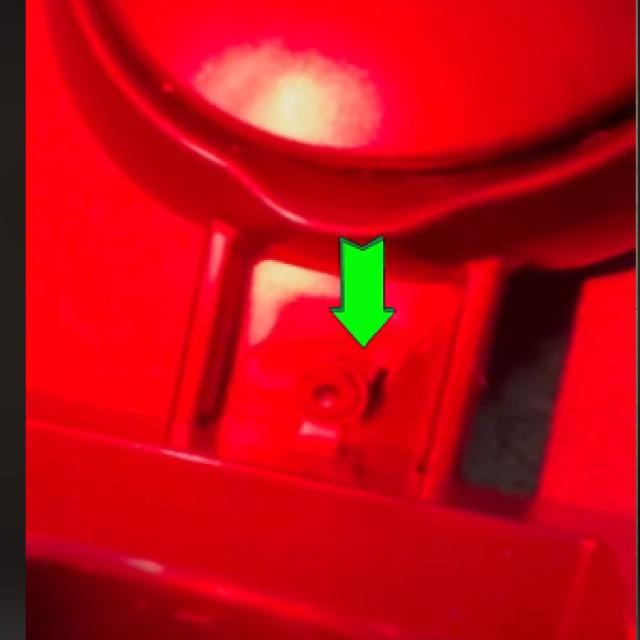hidden camera: (311, 378, 341, 410)
